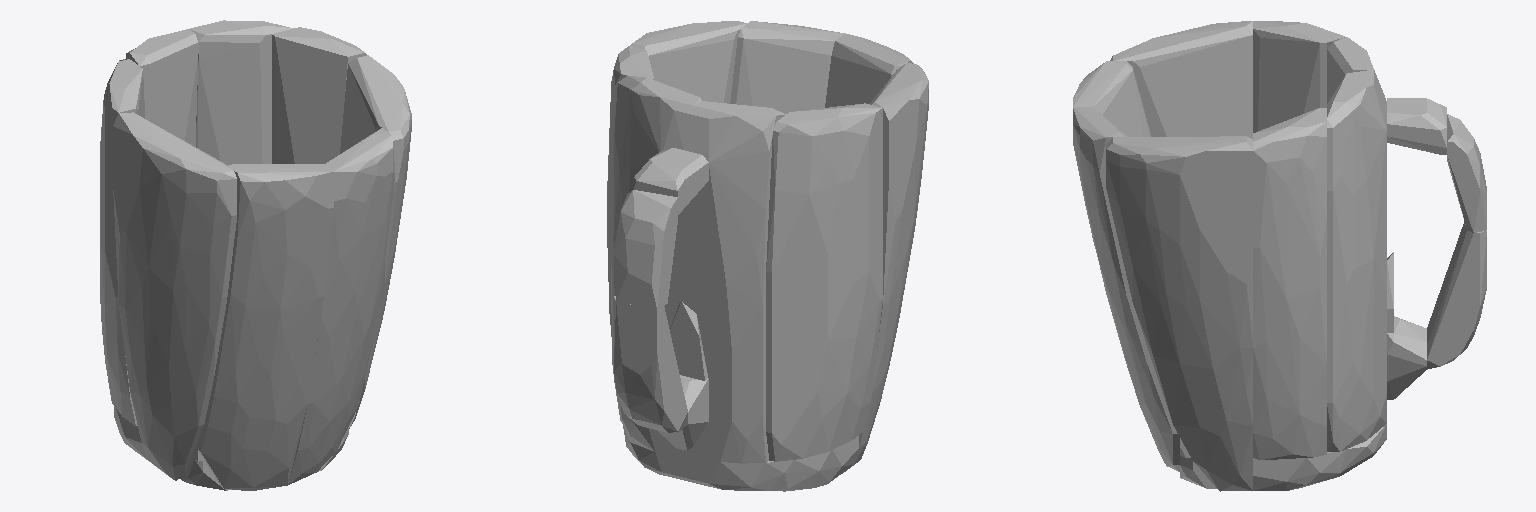
robot.urdf — root:
<robot name="root">
  <link name="link_d75af64aa166c24eacbe2257d0988c9c_convex_piece_0">
    <inertial>
      <origin rpy="0 0 0" xyz="0 0 0"/>
      <mass value="1.35E-07"/>
      <inertia ixx="5.56E-11" ixy="6.59E-13" ixz="-1.31E-13" iyy="4.45E-12" iyz="-1.07E-11" izz="5.19E-11"/>
    </inertial>
    <visual>
      <origin rpy="0 0 0" xyz="0 0 0"/>
      <geometry>
        <mesh filename="d75af64aa166c24eacbe2257d0988c9c_convex_piece_0.obj" scale="1.0000E+00"/>
      </geometry>
      <material name="">
        <color rgba="7.50E-01 7.50E-01 7.50E-01 1"/>
      </material>
    </visual>
    <collision>
      <origin rpy="0 0 0" xyz="0 0 0"/>
      <geometry>
        <mesh filename="d75af64aa166c24eacbe2257d0988c9c_convex_piece_0.obj" scale="1.0000E+00"/>
      </geometry>
    </collision>
  </link>
  <link name="link_d75af64aa166c24eacbe2257d0988c9c_convex_piece_1">
    <inertial>
      <origin rpy="0 0 0" xyz="0 0 0"/>
      <mass value="5.43E-08"/>
      <inertia ixx="2.70E-11" ixy="1.43E-13" ixz="1.65E-13" iyy="1.55E-11" iyz="1.34E-11" izz="1.18E-11"/>
    </inertial>
    <visual>
      <origin rpy="0 0 0" xyz="0 0 0"/>
      <geometry>
        <mesh filename="d75af64aa166c24eacbe2257d0988c9c_convex_piece_1.obj" scale="1.0000E+00"/>
      </geometry>
      <material name="">
        <color rgba="7.50E-01 7.50E-01 7.50E-01 1"/>
      </material>
    </visual>
    <collision>
      <origin rpy="0 0 0" xyz="0 0 0"/>
      <geometry>
        <mesh filename="d75af64aa166c24eacbe2257d0988c9c_convex_piece_1.obj" scale="1.0000E+00"/>
      </geometry>
    </collision>
  </link>
  <joint name="link_d75af64aa166c24eacbe2257d0988c9c_convex_piece_1_joint" type="fixed">
    <origin rpy="0 0 0" xyz="0 0 0"/>
    <parent link="link_d75af64aa166c24eacbe2257d0988c9c_convex_piece_0"/>
    <child link="link_d75af64aa166c24eacbe2257d0988c9c_convex_piece_1"/>
  </joint>
  <link name="link_d75af64aa166c24eacbe2257d0988c9c_convex_piece_2">
    <inertial>
      <origin rpy="0 0 0" xyz="0 0 0"/>
      <mass value="6.64E-08"/>
      <inertia ixx="3.53E-11" ixy="2.79E-13" ixz="1.50E-13" iyy="8.35E-12" iyz="1.42E-11" izz="2.73E-11"/>
    </inertial>
    <visual>
      <origin rpy="0 0 0" xyz="0 0 0"/>
      <geometry>
        <mesh filename="d75af64aa166c24eacbe2257d0988c9c_convex_piece_2.obj" scale="1.0000E+00"/>
      </geometry>
      <material name="">
        <color rgba="7.50E-01 7.50E-01 7.50E-01 1"/>
      </material>
    </visual>
    <collision>
      <origin rpy="0 0 0" xyz="0 0 0"/>
      <geometry>
        <mesh filename="d75af64aa166c24eacbe2257d0988c9c_convex_piece_2.obj" scale="1.0000E+00"/>
      </geometry>
    </collision>
  </link>
  <joint name="link_d75af64aa166c24eacbe2257d0988c9c_convex_piece_2_joint" type="fixed">
    <origin rpy="0 0 0" xyz="0 0 0"/>
    <parent link="link_d75af64aa166c24eacbe2257d0988c9c_convex_piece_1"/>
    <child link="link_d75af64aa166c24eacbe2257d0988c9c_convex_piece_2"/>
  </joint>
  <link name="link_d75af64aa166c24eacbe2257d0988c9c_convex_piece_3">
    <inertial>
      <origin rpy="0 0 0" xyz="0 0 0"/>
      <mass value="7.36E-07"/>
      <inertia ixx="1.52E-10" ixy="8.36E-11" ixz="-4.45E-11" iyy="2.20E-10" iyz="-4.41E-11" izz="1.80E-10"/>
    </inertial>
    <visual>
      <origin rpy="0 0 0" xyz="0 0 0"/>
      <geometry>
        <mesh filename="d75af64aa166c24eacbe2257d0988c9c_convex_piece_3.obj" scale="1.0000E+00"/>
      </geometry>
      <material name="">
        <color rgba="7.50E-01 7.50E-01 7.50E-01 1"/>
      </material>
    </visual>
    <collision>
      <origin rpy="0 0 0" xyz="0 0 0"/>
      <geometry>
        <mesh filename="d75af64aa166c24eacbe2257d0988c9c_convex_piece_3.obj" scale="1.0000E+00"/>
      </geometry>
    </collision>
  </link>
  <joint name="link_d75af64aa166c24eacbe2257d0988c9c_convex_piece_3_joint" type="fixed">
    <origin rpy="0 0 0" xyz="0 0 0"/>
    <parent link="link_d75af64aa166c24eacbe2257d0988c9c_convex_piece_2"/>
    <child link="link_d75af64aa166c24eacbe2257d0988c9c_convex_piece_3"/>
  </joint>
  <link name="link_d75af64aa166c24eacbe2257d0988c9c_convex_piece_4">
    <inertial>
      <origin rpy="0 0 0" xyz="0 0 0"/>
      <mass value="7.64E-07"/>
      <inertia ixx="1.59E-10" ixy="-8.65E-11" ixz="4.45E-11" iyy="2.27E-10" iyz="-4.53E-11" izz="1.85E-10"/>
    </inertial>
    <visual>
      <origin rpy="0 0 0" xyz="0 0 0"/>
      <geometry>
        <mesh filename="d75af64aa166c24eacbe2257d0988c9c_convex_piece_4.obj" scale="1.0000E+00"/>
      </geometry>
      <material name="">
        <color rgba="7.50E-01 7.50E-01 7.50E-01 1"/>
      </material>
    </visual>
    <collision>
      <origin rpy="0 0 0" xyz="0 0 0"/>
      <geometry>
        <mesh filename="d75af64aa166c24eacbe2257d0988c9c_convex_piece_4.obj" scale="1.0000E+00"/>
      </geometry>
    </collision>
  </link>
  <joint name="link_d75af64aa166c24eacbe2257d0988c9c_convex_piece_4_joint" type="fixed">
    <origin rpy="0 0 0" xyz="0 0 0"/>
    <parent link="link_d75af64aa166c24eacbe2257d0988c9c_convex_piece_3"/>
    <child link="link_d75af64aa166c24eacbe2257d0988c9c_convex_piece_4"/>
  </joint>
  <link name="link_d75af64aa166c24eacbe2257d0988c9c_convex_piece_5">
    <inertial>
      <origin rpy="0 0 0" xyz="0 0 0"/>
      <mass value="2.53E-07"/>
      <inertia ixx="9.71E-11" ixy="-4.15E-12" ixz="2.90E-11" iyy="1.07E-10" iyz="-1.87E-11" izz="1.39E-11"/>
    </inertial>
    <visual>
      <origin rpy="0 0 0" xyz="0 0 0"/>
      <geometry>
        <mesh filename="d75af64aa166c24eacbe2257d0988c9c_convex_piece_5.obj" scale="1.0000E+00"/>
      </geometry>
      <material name="">
        <color rgba="7.50E-01 7.50E-01 7.50E-01 1"/>
      </material>
    </visual>
    <collision>
      <origin rpy="0 0 0" xyz="0 0 0"/>
      <geometry>
        <mesh filename="d75af64aa166c24eacbe2257d0988c9c_convex_piece_5.obj" scale="1.0000E+00"/>
      </geometry>
    </collision>
  </link>
  <joint name="link_d75af64aa166c24eacbe2257d0988c9c_convex_piece_5_joint" type="fixed">
    <origin rpy="0 0 0" xyz="0 0 0"/>
    <parent link="link_d75af64aa166c24eacbe2257d0988c9c_convex_piece_4"/>
    <child link="link_d75af64aa166c24eacbe2257d0988c9c_convex_piece_5"/>
  </joint>
  <link name="link_d75af64aa166c24eacbe2257d0988c9c_convex_piece_6">
    <inertial>
      <origin rpy="0 0 0" xyz="0 0 0"/>
      <mass value="2.06E-07"/>
      <inertia ixx="8.12E-11" ixy="3.32E-12" ixz="-2.48E-11" iyy="9.00E-11" iyz="-1.47E-11" izz="1.12E-11"/>
    </inertial>
    <visual>
      <origin rpy="0 0 0" xyz="0 0 0"/>
      <geometry>
        <mesh filename="d75af64aa166c24eacbe2257d0988c9c_convex_piece_6.obj" scale="1.0000E+00"/>
      </geometry>
      <material name="">
        <color rgba="7.50E-01 7.50E-01 7.50E-01 1"/>
      </material>
    </visual>
    <collision>
      <origin rpy="0 0 0" xyz="0 0 0"/>
      <geometry>
        <mesh filename="d75af64aa166c24eacbe2257d0988c9c_convex_piece_6.obj" scale="1.0000E+00"/>
      </geometry>
    </collision>
  </link>
  <joint name="link_d75af64aa166c24eacbe2257d0988c9c_convex_piece_6_joint" type="fixed">
    <origin rpy="0 0 0" xyz="0 0 0"/>
    <parent link="link_d75af64aa166c24eacbe2257d0988c9c_convex_piece_5"/>
    <child link="link_d75af64aa166c24eacbe2257d0988c9c_convex_piece_6"/>
  </joint>
  <link name="link_d75af64aa166c24eacbe2257d0988c9c_convex_piece_7">
    <inertial>
      <origin rpy="0 0 0" xyz="0 0 0"/>
      <mass value="5.09E-08"/>
      <inertia ixx="1.47E-11" ixy="1.27E-13" ixz="-1.01E-13" iyy="6.24E-12" iyz="-8.05E-12" izz="8.73E-12"/>
    </inertial>
    <visual>
      <origin rpy="0 0 0" xyz="0 0 0"/>
      <geometry>
        <mesh filename="d75af64aa166c24eacbe2257d0988c9c_convex_piece_7.obj" scale="1.0000E+00"/>
      </geometry>
      <material name="">
        <color rgba="7.50E-01 7.50E-01 7.50E-01 1"/>
      </material>
    </visual>
    <collision>
      <origin rpy="0 0 0" xyz="0 0 0"/>
      <geometry>
        <mesh filename="d75af64aa166c24eacbe2257d0988c9c_convex_piece_7.obj" scale="1.0000E+00"/>
      </geometry>
    </collision>
  </link>
  <joint name="link_d75af64aa166c24eacbe2257d0988c9c_convex_piece_7_joint" type="fixed">
    <origin rpy="0 0 0" xyz="0 0 0"/>
    <parent link="link_d75af64aa166c24eacbe2257d0988c9c_convex_piece_6"/>
    <child link="link_d75af64aa166c24eacbe2257d0988c9c_convex_piece_7"/>
  </joint>
  <link name="link_d75af64aa166c24eacbe2257d0988c9c_convex_piece_8">
    <inertial>
      <origin rpy="0 0 0" xyz="0 0 0"/>
      <mass value="8.19E-09"/>
      <inertia ixx="1.19E-12" ixy="4.74E-15" ixz="-1.11E-15" iyy="1.49E-13" iyz="-4.64E-13" izz="1.06E-12"/>
    </inertial>
    <visual>
      <origin rpy="0 0 0" xyz="0 0 0"/>
      <geometry>
        <mesh filename="d75af64aa166c24eacbe2257d0988c9c_convex_piece_8.obj" scale="1.0000E+00"/>
      </geometry>
      <material name="">
        <color rgba="7.50E-01 7.50E-01 7.50E-01 1"/>
      </material>
    </visual>
    <collision>
      <origin rpy="0 0 0" xyz="0 0 0"/>
      <geometry>
        <mesh filename="d75af64aa166c24eacbe2257d0988c9c_convex_piece_8.obj" scale="1.0000E+00"/>
      </geometry>
    </collision>
  </link>
  <joint name="link_d75af64aa166c24eacbe2257d0988c9c_convex_piece_8_joint" type="fixed">
    <origin rpy="0 0 0" xyz="0 0 0"/>
    <parent link="link_d75af64aa166c24eacbe2257d0988c9c_convex_piece_7"/>
    <child link="link_d75af64aa166c24eacbe2257d0988c9c_convex_piece_8"/>
  </joint>
  <link name="link_d75af64aa166c24eacbe2257d0988c9c_convex_piece_9">
    <inertial>
      <origin rpy="0 0 0" xyz="0 0 0"/>
      <mass value="7.46E-07"/>
      <inertia ixx="2.74E-10" ixy="5.65E-11" ixz="-1.37E-12" iyy="1.15E-10" iyz="-2.09E-11" izz="2.06E-10"/>
    </inertial>
    <visual>
      <origin rpy="0 0 0" xyz="0 0 0"/>
      <geometry>
        <mesh filename="d75af64aa166c24eacbe2257d0988c9c_convex_piece_9.obj" scale="1.0000E+00"/>
      </geometry>
      <material name="">
        <color rgba="7.50E-01 7.50E-01 7.50E-01 1"/>
      </material>
    </visual>
    <collision>
      <origin rpy="0 0 0" xyz="0 0 0"/>
      <geometry>
        <mesh filename="d75af64aa166c24eacbe2257d0988c9c_convex_piece_9.obj" scale="1.0000E+00"/>
      </geometry>
    </collision>
  </link>
  <joint name="link_d75af64aa166c24eacbe2257d0988c9c_convex_piece_9_joint" type="fixed">
    <origin rpy="0 0 0" xyz="0 0 0"/>
    <parent link="link_d75af64aa166c24eacbe2257d0988c9c_convex_piece_8"/>
    <child link="link_d75af64aa166c24eacbe2257d0988c9c_convex_piece_9"/>
  </joint>
  <link name="link_d75af64aa166c24eacbe2257d0988c9c_convex_piece_10">
    <inertial>
      <origin rpy="0 0 0" xyz="0 0 0"/>
      <mass value="6.48E-07"/>
      <inertia ixx="2.38E-10" ixy="-5.19E-11" ixz="3.78E-12" iyy="9.55E-11" iyz="-2.43E-11" izz="1.85E-10"/>
    </inertial>
    <visual>
      <origin rpy="0 0 0" xyz="0 0 0"/>
      <geometry>
        <mesh filename="d75af64aa166c24eacbe2257d0988c9c_convex_piece_10.obj" scale="1.0000E+00"/>
      </geometry>
      <material name="">
        <color rgba="7.50E-01 7.50E-01 7.50E-01 1"/>
      </material>
    </visual>
    <collision>
      <origin rpy="0 0 0" xyz="0 0 0"/>
      <geometry>
        <mesh filename="d75af64aa166c24eacbe2257d0988c9c_convex_piece_10.obj" scale="1.0000E+00"/>
      </geometry>
    </collision>
  </link>
  <joint name="link_d75af64aa166c24eacbe2257d0988c9c_convex_piece_10_joint" type="fixed">
    <origin rpy="0 0 0" xyz="0 0 0"/>
    <parent link="link_d75af64aa166c24eacbe2257d0988c9c_convex_piece_9"/>
    <child link="link_d75af64aa166c24eacbe2257d0988c9c_convex_piece_10"/>
  </joint>
  <link name="link_d75af64aa166c24eacbe2257d0988c9c_convex_piece_11">
    <inertial>
      <origin rpy="0 0 0" xyz="0 0 0"/>
      <mass value="7.30E-07"/>
      <inertia ixx="8.73E-11" ixy="-1.95E-11" ixz="-2.55E-11" iyy="1.95E-10" iyz="-1.31E-12" izz="1.03E-10"/>
    </inertial>
    <visual>
      <origin rpy="0 0 0" xyz="0 0 0"/>
      <geometry>
        <mesh filename="d75af64aa166c24eacbe2257d0988c9c_convex_piece_11.obj" scale="1.0000E+00"/>
      </geometry>
      <material name="">
        <color rgba="7.50E-01 7.50E-01 7.50E-01 1"/>
      </material>
    </visual>
    <collision>
      <origin rpy="0 0 0" xyz="0 0 0"/>
      <geometry>
        <mesh filename="d75af64aa166c24eacbe2257d0988c9c_convex_piece_11.obj" scale="1.0000E+00"/>
      </geometry>
    </collision>
  </link>
  <joint name="link_d75af64aa166c24eacbe2257d0988c9c_convex_piece_11_joint" type="fixed">
    <origin rpy="0 0 0" xyz="0 0 0"/>
    <parent link="link_d75af64aa166c24eacbe2257d0988c9c_convex_piece_10"/>
    <child link="link_d75af64aa166c24eacbe2257d0988c9c_convex_piece_11"/>
  </joint>
  <link name="link_d75af64aa166c24eacbe2257d0988c9c_convex_piece_12">
    <inertial>
      <origin rpy="0 0 0" xyz="0 0 0"/>
      <mass value="6.08E-07"/>
      <inertia ixx="1.18E-10" ixy="-2.25E-11" ixz="-7.24E-12" iyy="9.71E-11" iyz="1.03E-11" izz="5.22E-11"/>
    </inertial>
    <visual>
      <origin rpy="0 0 0" xyz="0 0 0"/>
      <geometry>
        <mesh filename="d75af64aa166c24eacbe2257d0988c9c_convex_piece_12.obj" scale="1.0000E+00"/>
      </geometry>
      <material name="">
        <color rgba="7.50E-01 7.50E-01 7.50E-01 1"/>
      </material>
    </visual>
    <collision>
      <origin rpy="0 0 0" xyz="0 0 0"/>
      <geometry>
        <mesh filename="d75af64aa166c24eacbe2257d0988c9c_convex_piece_12.obj" scale="1.0000E+00"/>
      </geometry>
    </collision>
  </link>
  <joint name="link_d75af64aa166c24eacbe2257d0988c9c_convex_piece_12_joint" type="fixed">
    <origin rpy="0 0 0" xyz="0 0 0"/>
    <parent link="link_d75af64aa166c24eacbe2257d0988c9c_convex_piece_11"/>
    <child link="link_d75af64aa166c24eacbe2257d0988c9c_convex_piece_12"/>
  </joint>
  <link name="link_d75af64aa166c24eacbe2257d0988c9c_convex_piece_13">
    <inertial>
      <origin rpy="0 0 0" xyz="0 0 0"/>
      <mass value="5.96E-07"/>
      <inertia ixx="6.86E-11" ixy="8.19E-12" ixz="2.20E-11" iyy="1.69E-10" iyz="-2.60E-12" izz="8.50E-11"/>
    </inertial>
    <visual>
      <origin rpy="0 0 0" xyz="0 0 0"/>
      <geometry>
        <mesh filename="d75af64aa166c24eacbe2257d0988c9c_convex_piece_13.obj" scale="1.0000E+00"/>
      </geometry>
      <material name="">
        <color rgba="7.50E-01 7.50E-01 7.50E-01 1"/>
      </material>
    </visual>
    <collision>
      <origin rpy="0 0 0" xyz="0 0 0"/>
      <geometry>
        <mesh filename="d75af64aa166c24eacbe2257d0988c9c_convex_piece_13.obj" scale="1.0000E+00"/>
      </geometry>
    </collision>
  </link>
  <joint name="link_d75af64aa166c24eacbe2257d0988c9c_convex_piece_13_joint" type="fixed">
    <origin rpy="0 0 0" xyz="0 0 0"/>
    <parent link="link_d75af64aa166c24eacbe2257d0988c9c_convex_piece_12"/>
    <child link="link_d75af64aa166c24eacbe2257d0988c9c_convex_piece_13"/>
  </joint>
  <link name="link_d75af64aa166c24eacbe2257d0988c9c_convex_piece_14">
    <inertial>
      <origin rpy="0 0 0" xyz="0 0 0"/>
      <mass value="7.64E-07"/>
      <inertia ixx="1.42E-10" ixy="3.52E-11" ixz="9.62E-12" iyy="1.36E-10" iyz="8.13E-12" izz="7.47E-11"/>
    </inertial>
    <visual>
      <origin rpy="0 0 0" xyz="0 0 0"/>
      <geometry>
        <mesh filename="d75af64aa166c24eacbe2257d0988c9c_convex_piece_14.obj" scale="1.0000E+00"/>
      </geometry>
      <material name="">
        <color rgba="7.50E-01 7.50E-01 7.50E-01 1"/>
      </material>
    </visual>
    <collision>
      <origin rpy="0 0 0" xyz="0 0 0"/>
      <geometry>
        <mesh filename="d75af64aa166c24eacbe2257d0988c9c_convex_piece_14.obj" scale="1.0000E+00"/>
      </geometry>
    </collision>
  </link>
  <joint name="link_d75af64aa166c24eacbe2257d0988c9c_convex_piece_14_joint" type="fixed">
    <origin rpy="0 0 0" xyz="0 0 0"/>
    <parent link="link_d75af64aa166c24eacbe2257d0988c9c_convex_piece_13"/>
    <child link="link_d75af64aa166c24eacbe2257d0988c9c_convex_piece_14"/>
  </joint>
  <link name="link_d75af64aa166c24eacbe2257d0988c9c_convex_piece_15">
    <inertial>
      <origin rpy="0 0 0" xyz="0 0 0"/>
      <mass value="1.01E-07"/>
      <inertia ixx="4.85E-11" ixy="3.34E-12" ixz="1.06E-11" iyy="4.87E-11" iyz="1.36E-11" izz="6.40E-12"/>
    </inertial>
    <visual>
      <origin rpy="0 0 0" xyz="0 0 0"/>
      <geometry>
        <mesh filename="d75af64aa166c24eacbe2257d0988c9c_convex_piece_15.obj" scale="1.0000E+00"/>
      </geometry>
      <material name="">
        <color rgba="7.50E-01 7.50E-01 7.50E-01 1"/>
      </material>
    </visual>
    <collision>
      <origin rpy="0 0 0" xyz="0 0 0"/>
      <geometry>
        <mesh filename="d75af64aa166c24eacbe2257d0988c9c_convex_piece_15.obj" scale="1.0000E+00"/>
      </geometry>
    </collision>
  </link>
  <joint name="link_d75af64aa166c24eacbe2257d0988c9c_convex_piece_15_joint" type="fixed">
    <origin rpy="0 0 0" xyz="0 0 0"/>
    <parent link="link_d75af64aa166c24eacbe2257d0988c9c_convex_piece_14"/>
    <child link="link_d75af64aa166c24eacbe2257d0988c9c_convex_piece_15"/>
  </joint>
  <link name="link_d75af64aa166c24eacbe2257d0988c9c_convex_piece_16">
    <inertial>
      <origin rpy="0 0 0" xyz="0 0 0"/>
      <mass value="4.37E-08"/>
      <inertia ixx="1.31E-11" ixy="3.04E-12" ixz="5.64E-12" iyy="1.39E-11" iyz="5.32E-12" izz="5.44E-12"/>
    </inertial>
    <visual>
      <origin rpy="0 0 0" xyz="0 0 0"/>
      <geometry>
        <mesh filename="d75af64aa166c24eacbe2257d0988c9c_convex_piece_16.obj" scale="1.0000E+00"/>
      </geometry>
      <material name="">
        <color rgba="7.50E-01 7.50E-01 7.50E-01 1"/>
      </material>
    </visual>
    <collision>
      <origin rpy="0 0 0" xyz="0 0 0"/>
      <geometry>
        <mesh filename="d75af64aa166c24eacbe2257d0988c9c_convex_piece_16.obj" scale="1.0000E+00"/>
      </geometry>
    </collision>
  </link>
  <joint name="link_d75af64aa166c24eacbe2257d0988c9c_convex_piece_16_joint" type="fixed">
    <origin rpy="0 0 0" xyz="0 0 0"/>
    <parent link="link_d75af64aa166c24eacbe2257d0988c9c_convex_piece_15"/>
    <child link="link_d75af64aa166c24eacbe2257d0988c9c_convex_piece_16"/>
  </joint>
  <link name="link_d75af64aa166c24eacbe2257d0988c9c_convex_piece_17">
    <inertial>
      <origin rpy="0 0 0" xyz="0 0 0"/>
      <mass value="1.04E-07"/>
      <inertia ixx="5.06E-11" ixy="-3.66E-12" ixz="-1.11E-11" iyy="5.02E-11" iyz="1.49E-11" izz="7.19E-12"/>
    </inertial>
    <visual>
      <origin rpy="0 0 0" xyz="0 0 0"/>
      <geometry>
        <mesh filename="d75af64aa166c24eacbe2257d0988c9c_convex_piece_17.obj" scale="1.0000E+00"/>
      </geometry>
      <material name="">
        <color rgba="7.50E-01 7.50E-01 7.50E-01 1"/>
      </material>
    </visual>
    <collision>
      <origin rpy="0 0 0" xyz="0 0 0"/>
      <geometry>
        <mesh filename="d75af64aa166c24eacbe2257d0988c9c_convex_piece_17.obj" scale="1.0000E+00"/>
      </geometry>
    </collision>
  </link>
  <joint name="link_d75af64aa166c24eacbe2257d0988c9c_convex_piece_17_joint" type="fixed">
    <origin rpy="0 0 0" xyz="0 0 0"/>
    <parent link="link_d75af64aa166c24eacbe2257d0988c9c_convex_piece_16"/>
    <child link="link_d75af64aa166c24eacbe2257d0988c9c_convex_piece_17"/>
  </joint>
  <link name="link_d75af64aa166c24eacbe2257d0988c9c_convex_piece_18">
    <inertial>
      <origin rpy="0 0 0" xyz="0 0 0"/>
      <mass value="6.45E-08"/>
      <inertia ixx="1.94E-11" ixy="-4.44E-12" ixz="-7.55E-12" iyy="1.94E-11" iyz="8.18E-12" izz="8.15E-12"/>
    </inertial>
    <visual>
      <origin rpy="0 0 0" xyz="0 0 0"/>
      <geometry>
        <mesh filename="d75af64aa166c24eacbe2257d0988c9c_convex_piece_18.obj" scale="1.0000E+00"/>
      </geometry>
      <material name="">
        <color rgba="7.50E-01 7.50E-01 7.50E-01 1"/>
      </material>
    </visual>
    <collision>
      <origin rpy="0 0 0" xyz="0 0 0"/>
      <geometry>
        <mesh filename="d75af64aa166c24eacbe2257d0988c9c_convex_piece_18.obj" scale="1.0000E+00"/>
      </geometry>
    </collision>
  </link>
  <joint name="link_d75af64aa166c24eacbe2257d0988c9c_convex_piece_18_joint" type="fixed">
    <origin rpy="0 0 0" xyz="0 0 0"/>
    <parent link="link_d75af64aa166c24eacbe2257d0988c9c_convex_piece_17"/>
    <child link="link_d75af64aa166c24eacbe2257d0988c9c_convex_piece_18"/>
  </joint>
</robot>

--- What the picture shows (computed from the rendered views, not written in the file) ---
3 views of the same robot in one strip: view 1: azimuth 30°, elevation 25°; view 2: azimuth 150°, elevation 25°; view 3: azimuth 270°, elevation 25° (orthographic).
Robot: root — 19 links, 18 joints (18 fixed); root link link_d75af64aa166c24eacbe2257d0988c9c_convex_piece_0; default pose: all joints at 0.
Visible links, largest first — view 1: link_d75af64aa166c24eacbe2257d0988c9c_convex_piece_3, link_d75af64aa166c24eacbe2257d0988c9c_convex_piece_9, link_d75af64aa166c24eacbe2257d0988c9c_convex_piece_10, link_d75af64aa166c24eacbe2257d0988c9c_convex_piece_14, link_d75af64aa166c24eacbe2257d0988c9c_convex_piece_13, link_d75af64aa166c24eacbe2257d0988c9c_convex_piece_11, link_d75af64aa166c24eacbe2257d0988c9c_convex_piece_4, link_d75af64aa166c24eacbe2257d0988c9c_convex_piece_12, link_d75af64aa166c24eacbe2257d0988c9c_convex_piece_15, link_d75af64aa166c24eacbe2257d0988c9c_convex_piece_5; view 2: link_d75af64aa166c24eacbe2257d0988c9c_convex_piece_11, link_d75af64aa166c24eacbe2257d0988c9c_convex_piece_12, link_d75af64aa166c24eacbe2257d0988c9c_convex_piece_3, link_d75af64aa166c24eacbe2257d0988c9c_convex_piece_14, link_d75af64aa166c24eacbe2257d0988c9c_convex_piece_10, link_d75af64aa166c24eacbe2257d0988c9c_convex_piece_0, link_d75af64aa166c24eacbe2257d0988c9c_convex_piece_2, link_d75af64aa166c24eacbe2257d0988c9c_convex_piece_4, link_d75af64aa166c24eacbe2257d0988c9c_convex_piece_5, link_d75af64aa166c24eacbe2257d0988c9c_convex_piece_9, link_d75af64aa166c24eacbe2257d0988c9c_convex_piece_1, link_d75af64aa166c24eacbe2257d0988c9c_convex_piece_8 (+3 smaller); view 3: link_d75af64aa166c24eacbe2257d0988c9c_convex_piece_4, link_d75af64aa166c24eacbe2257d0988c9c_convex_piece_13, link_d75af64aa166c24eacbe2257d0988c9c_convex_piece_14, link_d75af64aa166c24eacbe2257d0988c9c_convex_piece_3, link_d75af64aa166c24eacbe2257d0988c9c_convex_piece_10, link_d75af64aa166c24eacbe2257d0988c9c_convex_piece_11, link_d75af64aa166c24eacbe2257d0988c9c_convex_piece_0, link_d75af64aa166c24eacbe2257d0988c9c_convex_piece_9, link_d75af64aa166c24eacbe2257d0988c9c_convex_piece_6, link_d75af64aa166c24eacbe2257d0988c9c_convex_piece_2, link_d75af64aa166c24eacbe2257d0988c9c_convex_piece_1, link_d75af64aa166c24eacbe2257d0988c9c_convex_piece_7 (+3 smaller).
Boxes of the visible links, x1,y1,x2,y2 form: link_d75af64aa166c24eacbe2257d0988c9c_convex_piece_3: (113, 112, 236, 480); link_d75af64aa166c24eacbe2257d0988c9c_convex_piece_9: (198, 164, 333, 490); link_d75af64aa166c24eacbe2257d0988c9c_convex_piece_10: (288, 128, 395, 484); link_d75af64aa166c24eacbe2257d0988c9c_convex_piece_14: (189, 20, 293, 165); link_d75af64aa166c24eacbe2257d0988c9c_convex_piece_13: (272, 27, 366, 163); link_d75af64aa166c24eacbe2257d0988c9c_convex_piece_11: (100, 59, 144, 425); link_d75af64aa166c24eacbe2257d0988c9c_convex_piece_4: (340, 55, 411, 428); link_d75af64aa166c24eacbe2257d0988c9c_convex_piece_12: (128, 29, 198, 146); link_d75af64aa166c24eacbe2257d0988c9c_convex_piece_15: (180, 458, 231, 490); link_d75af64aa166c24eacbe2257d0988c9c_convex_piece_5: (114, 407, 146, 459); link_d75af64aa166c24eacbe2257d0988c9c_convex_piece_11: (766, 103, 882, 461); link_d75af64aa166c24eacbe2257d0988c9c_convex_piece_12: (685, 101, 785, 463); link_d75af64aa166c24eacbe2257d0988c9c_convex_piece_3: (842, 62, 928, 473); link_d75af64aa166c24eacbe2257d0988c9c_convex_piece_14: (611, 76, 701, 458); link_d75af64aa166c24eacbe2257d0988c9c_convex_piece_10: (730, 21, 844, 113); link_d75af64aa166c24eacbe2257d0988c9c_convex_piece_0: (614, 296, 687, 433); link_d75af64aa166c24eacbe2257d0988c9c_convex_piece_2: (614, 190, 677, 310); link_d75af64aa166c24eacbe2257d0988c9c_convex_piece_4: (630, 21, 747, 103); link_d75af64aa166c24eacbe2257d0988c9c_convex_piece_5: (685, 436, 858, 491); link_d75af64aa166c24eacbe2257d0988c9c_convex_piece_9: (825, 33, 913, 107); link_d75af64aa166c24eacbe2257d0988c9c_convex_piece_1: (632, 148, 708, 214); link_d75af64aa166c24eacbe2257d0988c9c_convex_piece_8: (670, 301, 708, 380); link_d75af64aa166c24eacbe2257d0988c9c_convex_piece_4: (1106, 136, 1252, 491); link_d75af64aa166c24eacbe2257d0988c9c_convex_piece_13: (1253, 108, 1326, 459); link_d75af64aa166c24eacbe2257d0988c9c_convex_piece_14: (1327, 71, 1386, 451); link_d75af64aa166c24eacbe2257d0988c9c_convex_piece_3: (1110, 21, 1252, 138); link_d75af64aa166c24eacbe2257d0988c9c_convex_piece_10: (1073, 107, 1179, 471); link_d75af64aa166c24eacbe2257d0988c9c_convex_piece_11: (1253, 21, 1344, 132); link_d75af64aa166c24eacbe2257d0988c9c_convex_piece_0: (1427, 221, 1486, 369); link_d75af64aa166c24eacbe2257d0988c9c_convex_piece_9: (1073, 61, 1150, 248); link_d75af64aa166c24eacbe2257d0988c9c_convex_piece_6: (1253, 424, 1386, 490); link_d75af64aa166c24eacbe2257d0988c9c_convex_piece_2: (1447, 114, 1486, 232); link_d75af64aa166c24eacbe2257d0988c9c_convex_piece_1: (1387, 98, 1446, 154); link_d75af64aa166c24eacbe2257d0988c9c_convex_piece_7: (1387, 316, 1426, 399).
Bounding box of the posed robot: 0.0332 × 0.0457 × 0.0472 m (x, y, z).
19 mesh visuals loaded from 19 distinct referenced files (19 OBJ).
